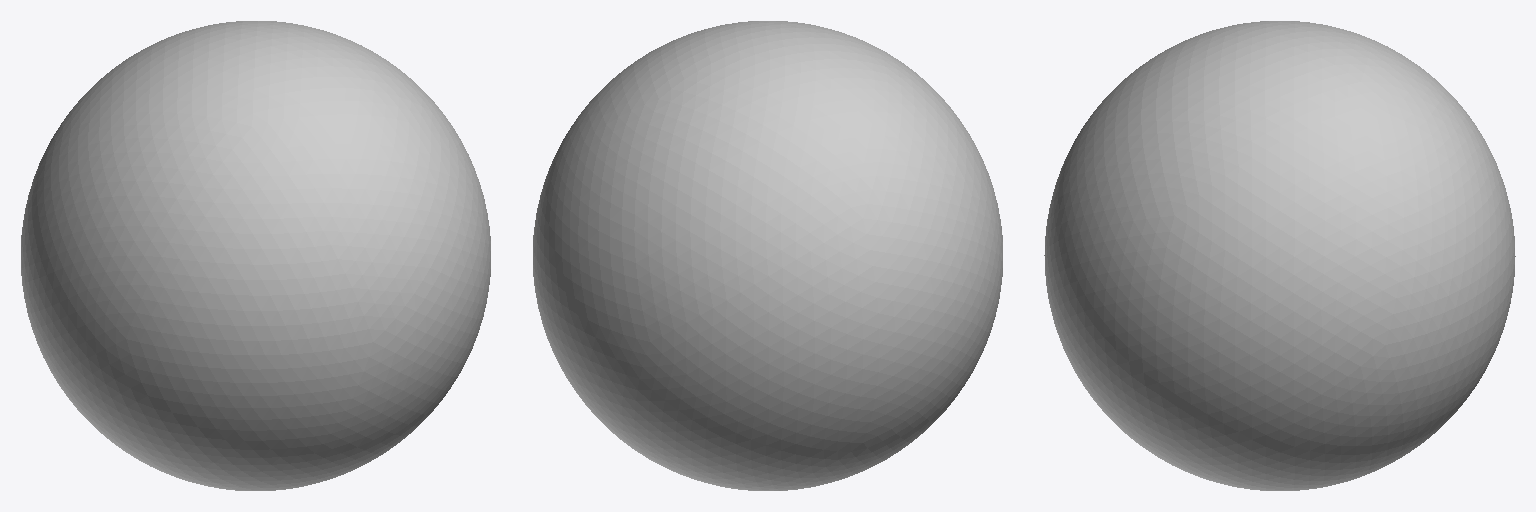
File: qiu.obj
The picture shows the model from 3 angles: view 1: azimuth 30°, elevation 25°; view 2: azimuth 150°, elevation 25°; view 3: azimuth 270°, elevation 25°; orthographic projection.
Visible parts, largest first — view 1: Object.1; view 2: Object.1; view 3: Object.1.
Part boxes in pixels (x1,y1,x2,y2): Object.1: (21, 21, 490, 490); Object.1: (533, 21, 1002, 490); Object.1: (1044, 21, 1515, 490).
Size of the model in its own units: 4 by 4 by 4.